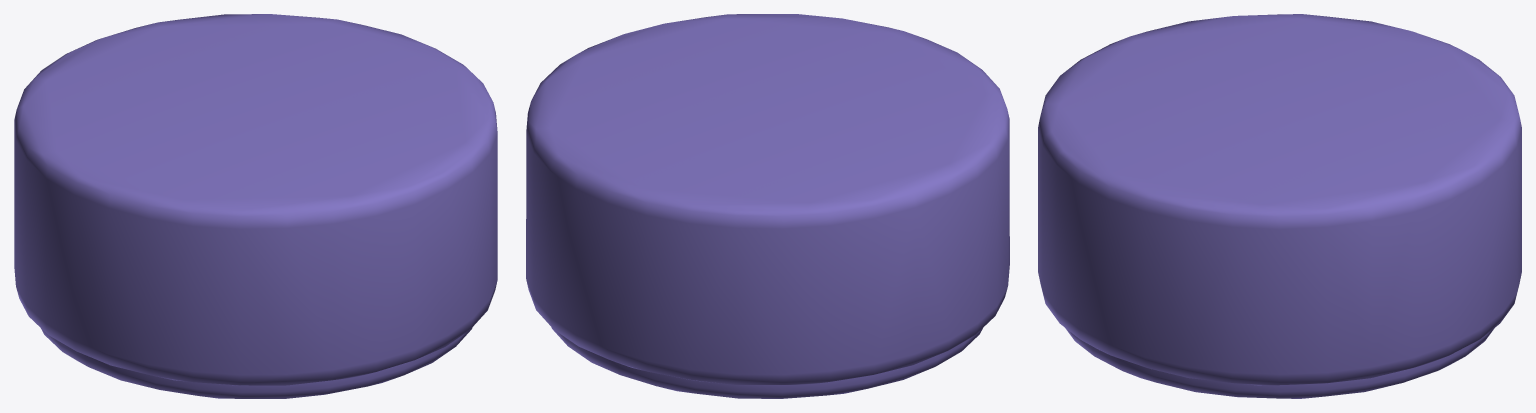
Rendered from stool_04_purple.fbx.
The picture shows the model from 3 angles, left to right: view 1: azimuth 30°, elevation 25°; view 2: azimuth 150°, elevation 25°; view 3: azimuth 270°, elevation 25°; orthographic projection.
Parts seen in each view (by area): view 1: stool_04_purple; view 2: stool_04_purple; view 3: stool_04_purple.
Part boxes in pixels (left/top/right/bottom): stool_04_purple: left=14, top=14, right=497, bottom=398; stool_04_purple: left=526, top=14, right=1009, bottom=398; stool_04_purple: left=1038, top=14, right=1521, bottom=398.
Size of the model in its own units: 86.76 by 38.97 by 86.76.
2 materials, 2 textured.
